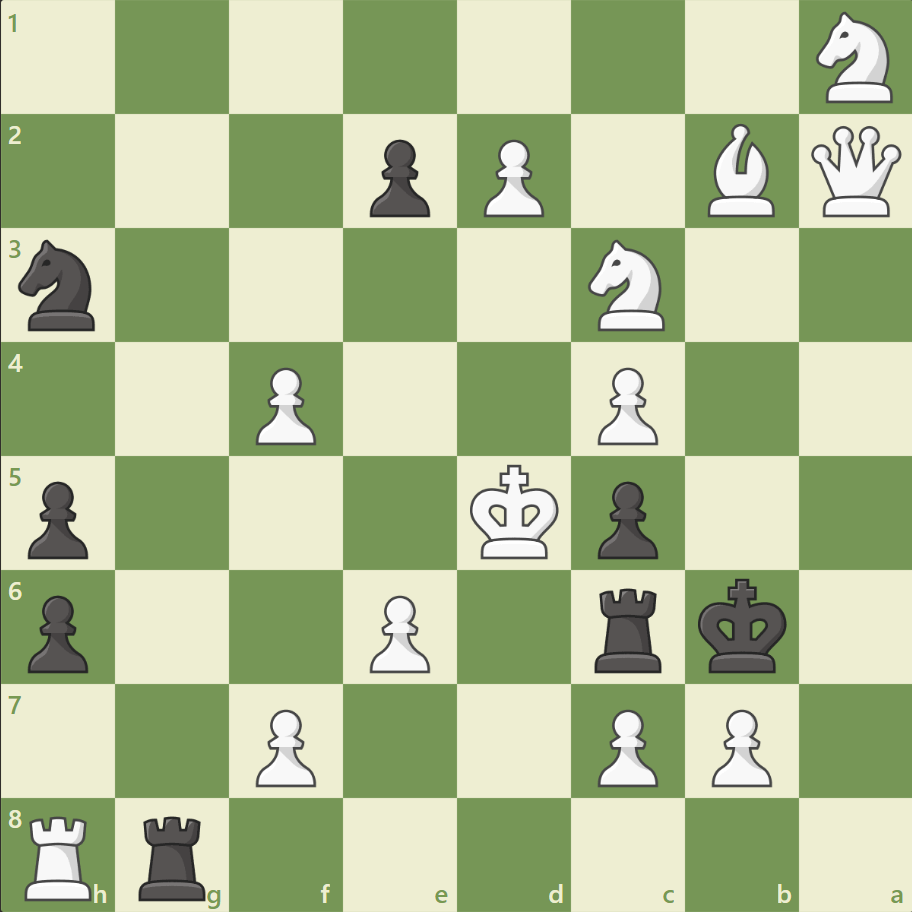B: (698, 120, 782, 222)
K: (465, 458, 565, 566)
N: (579, 234, 676, 337), (806, 7, 903, 110)
P: (701, 700, 776, 791), (247, 700, 322, 791), (247, 359, 322, 450), (474, 132, 549, 223), (588, 700, 662, 791), (361, 586, 435, 677), (588, 359, 662, 450)
Q: (805, 122, 904, 222)
R: (19, 806, 102, 904)
k: (692, 571, 792, 679)
n: (11, 234, 108, 337)
p: (20, 586, 95, 677), (20, 473, 95, 564), (588, 473, 662, 564), (361, 132, 435, 223)
r: (587, 579, 670, 676), (133, 806, 215, 904)
